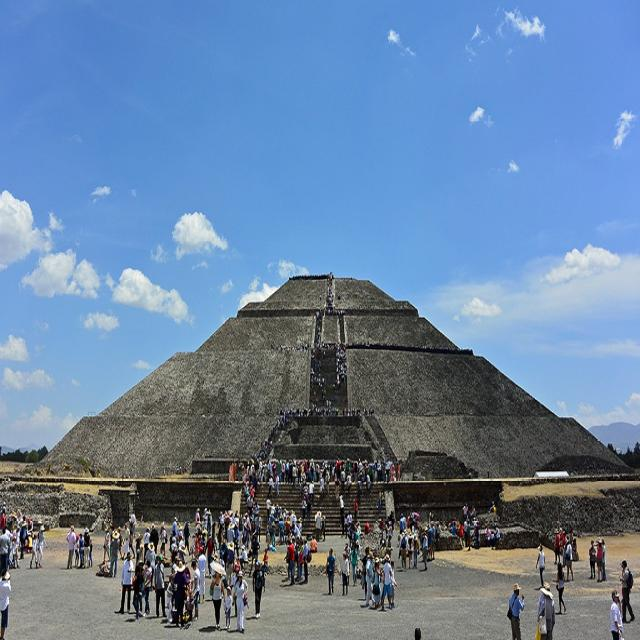body: (238, 456, 397, 535), (396, 509, 436, 572), (307, 352, 348, 407), (458, 500, 500, 552), (249, 420, 290, 458), (277, 406, 374, 422), (230, 568, 251, 636), (535, 580, 557, 639), (116, 548, 135, 615), (172, 559, 190, 628), (206, 507, 238, 544), (272, 341, 363, 354), (619, 558, 636, 624), (208, 571, 226, 630), (508, 581, 525, 640), (153, 554, 168, 618), (168, 522, 188, 568), (0, 564, 12, 639), (252, 560, 266, 621), (379, 552, 393, 610), (190, 559, 202, 624), (609, 588, 624, 640), (554, 561, 568, 616), (140, 556, 152, 620), (16, 507, 42, 535), (364, 550, 376, 609), (196, 546, 208, 605), (221, 582, 235, 632), (132, 563, 144, 621), (189, 523, 207, 560), (338, 550, 351, 599), (64, 524, 77, 571), (203, 532, 216, 578), (346, 541, 359, 587), (108, 529, 120, 578), (145, 540, 156, 592), (248, 534, 261, 578), (36, 524, 48, 570), (285, 537, 296, 586), (0, 526, 10, 578), (10, 524, 21, 570), (283, 535, 294, 581), (535, 543, 546, 589), (362, 546, 371, 602), (326, 547, 336, 597), (390, 560, 400, 610), (435, 518, 457, 540), (0, 500, 16, 530), (564, 537, 574, 583), (594, 538, 604, 583), (166, 574, 175, 623), (374, 556, 382, 610), (226, 540, 235, 588), (120, 521, 131, 560), (324, 269, 335, 308), (587, 538, 597, 580), (81, 524, 90, 570), (376, 534, 393, 558), (182, 519, 192, 558), (17, 521, 27, 560), (340, 534, 364, 550), (8, 533, 18, 570), (29, 532, 39, 569), (600, 537, 608, 583), (101, 524, 110, 564), (219, 538, 229, 573), (136, 542, 145, 580), (302, 536, 309, 584), (128, 520, 136, 560), (149, 523, 159, 555), (568, 529, 578, 561), (314, 307, 345, 317), (143, 528, 151, 566), (552, 526, 560, 564), (158, 524, 167, 557), (294, 535, 300, 583), (212, 521, 220, 557), (227, 458, 238, 484), (238, 544, 248, 572), (297, 540, 304, 580), (263, 534, 278, 552), (77, 532, 84, 570), (108, 525, 115, 561), (558, 524, 566, 555), (343, 542, 351, 572), (73, 534, 80, 568), (117, 525, 123, 560), (171, 514, 178, 544), (308, 535, 318, 554), (23, 534, 32, 554), (88, 537, 93, 569), (313, 322, 321, 341), (378, 558, 384, 583), (195, 506, 202, 526), (199, 506, 207, 523), (262, 547, 269, 565), (130, 509, 136, 529), (397, 456, 402, 480), (238, 534, 250, 544), (215, 543, 223, 558), (233, 543, 240, 560), (234, 556, 241, 572), (592, 535, 600, 547), (278, 535, 286, 546), (318, 535, 326, 543), (291, 537, 296, 546), (10, 528, 16, 535)
